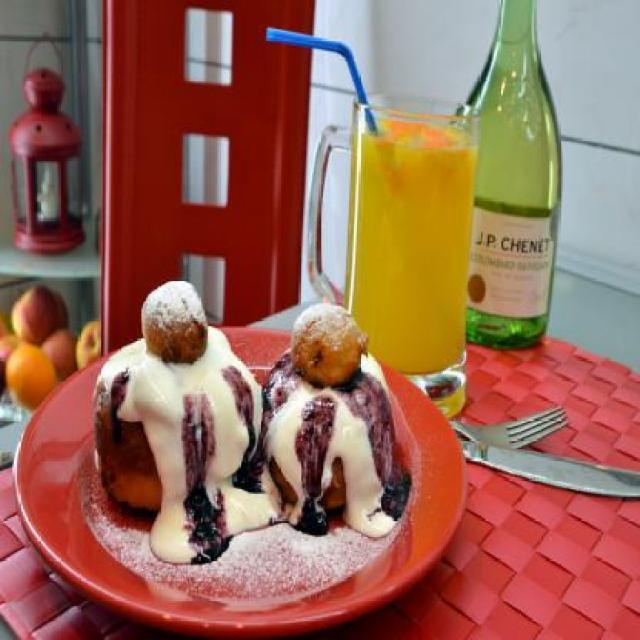Juice: (340, 73, 486, 394)
